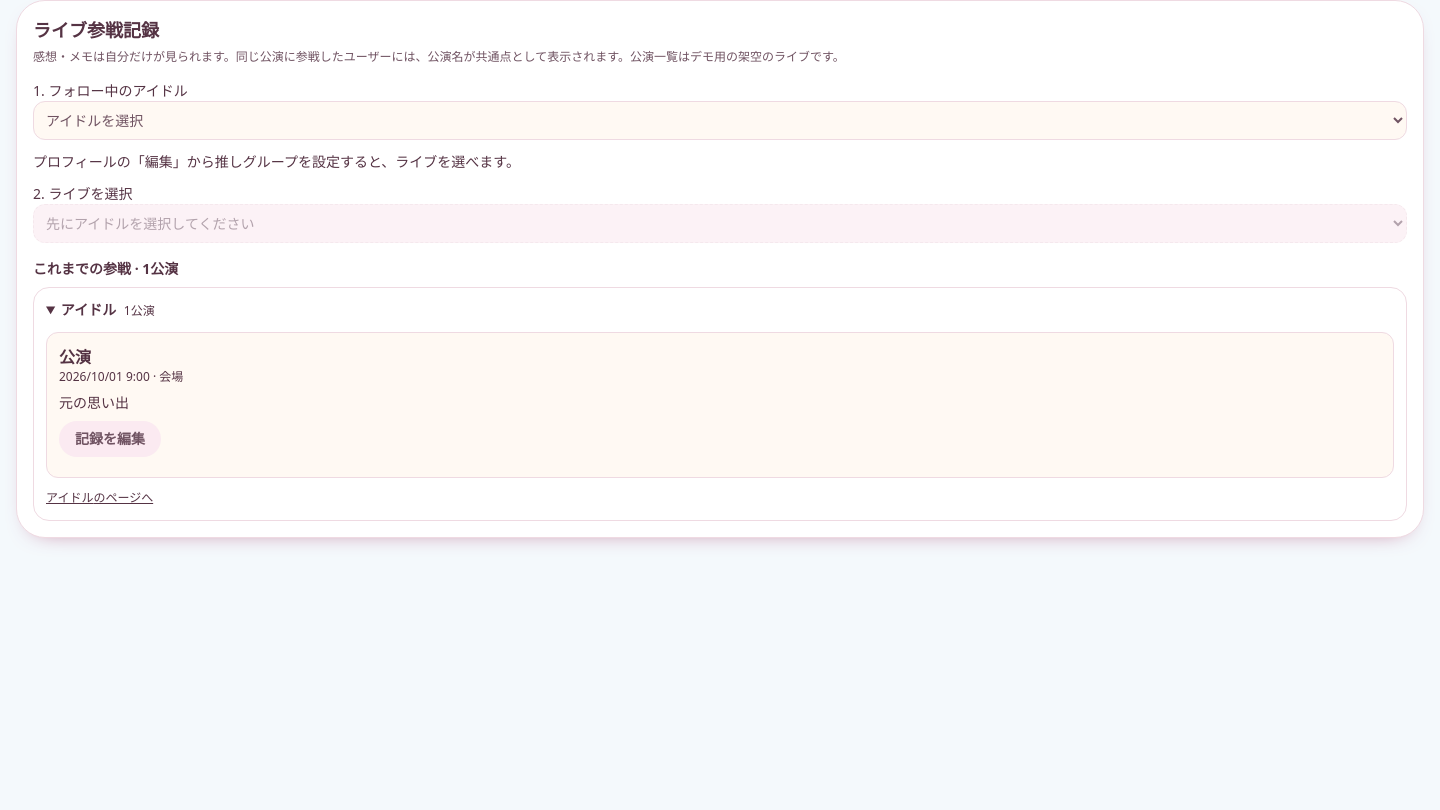
Scenario: 編集フォームは対象のカード内に開き、キャンセルで元のメモに戻る
Click the button "記録を編集" at (110,439), box [59,421,161,457]
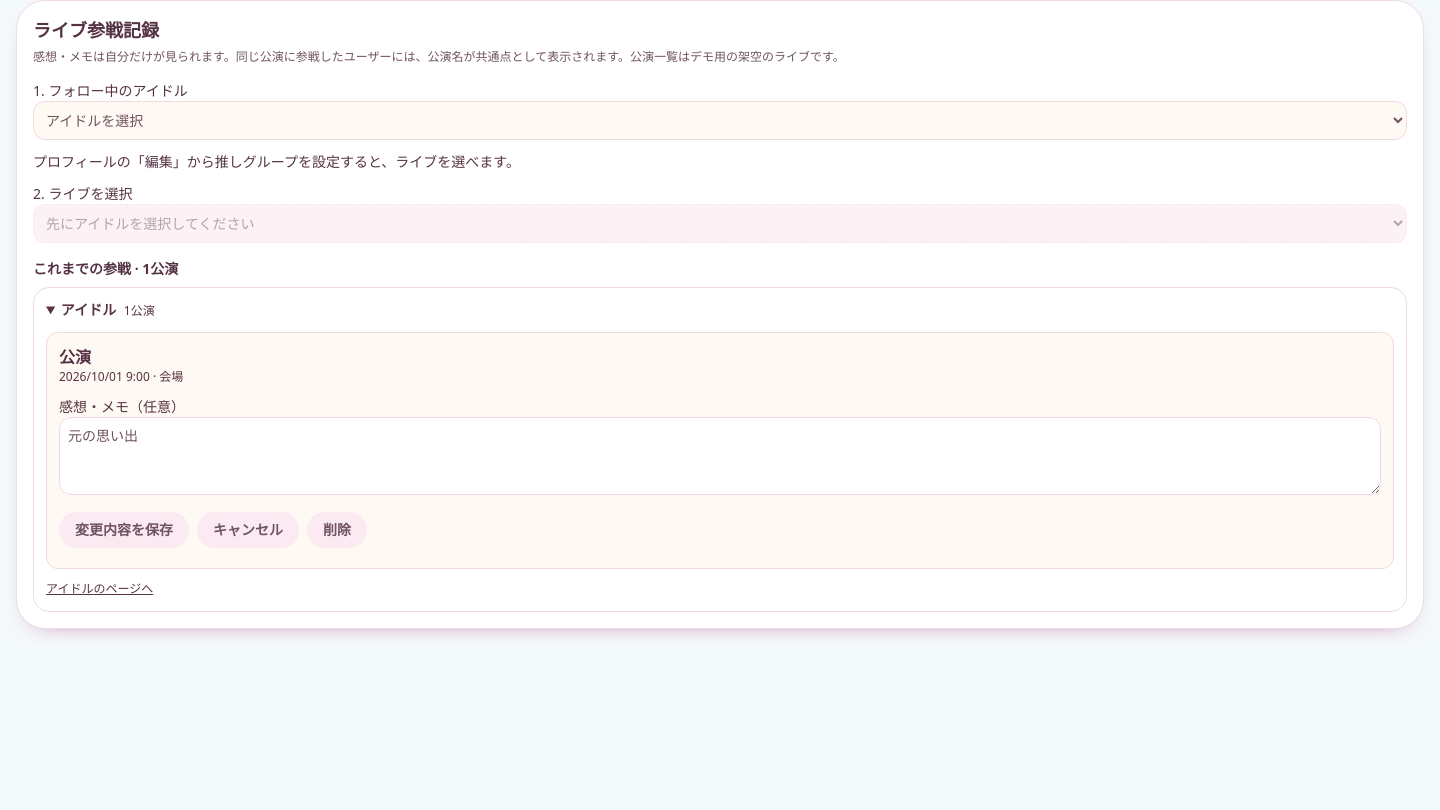
Expected: the button "変更内容を保存" is shown, [59,512,189,548]
Expected: the button "削除" is shown, [307,512,367,548]
Replace the text in the text box with "変更中のメモ" at (720,456), box [59,417,1381,495]
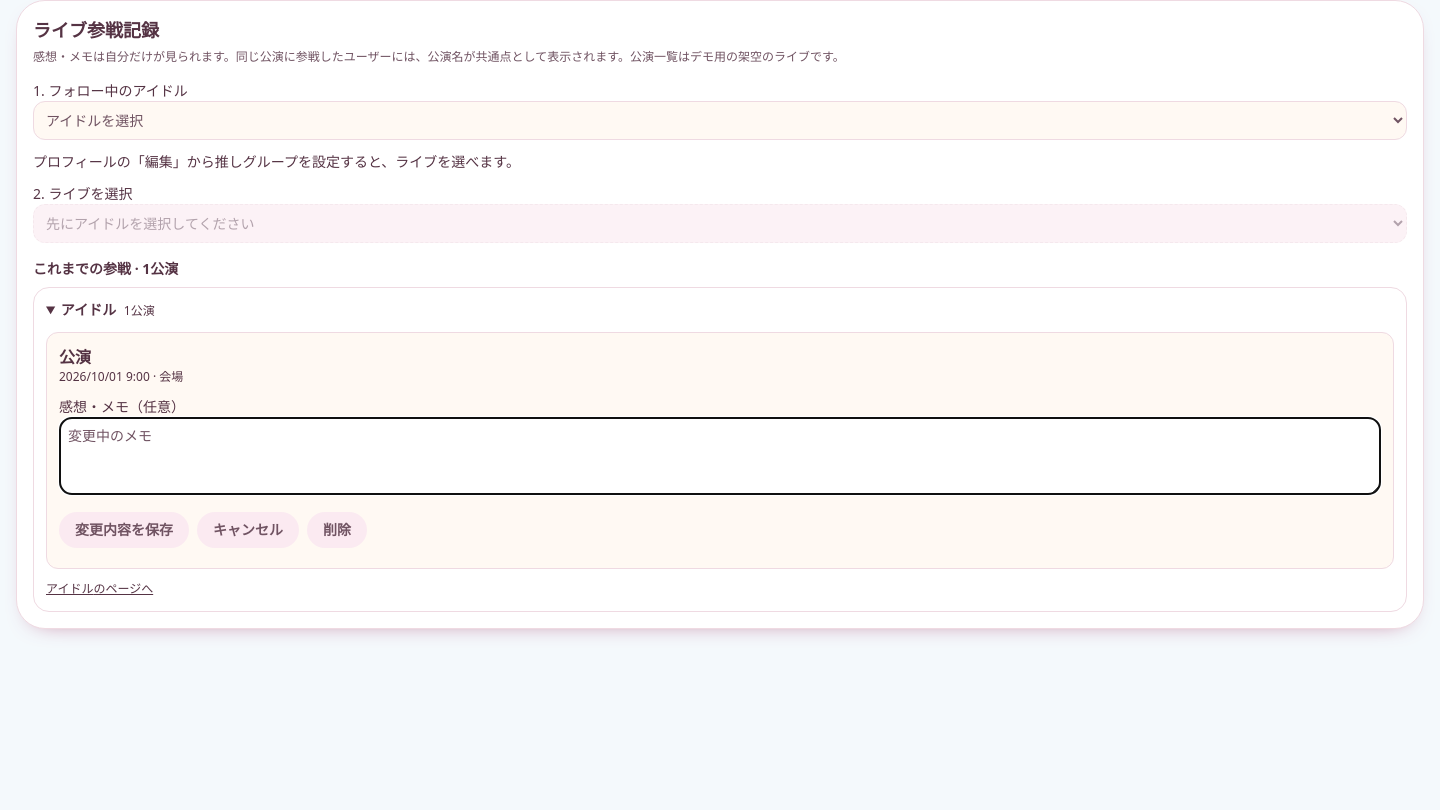
Click the button "キャンセル" at (248,530), box [197,512,299,548]
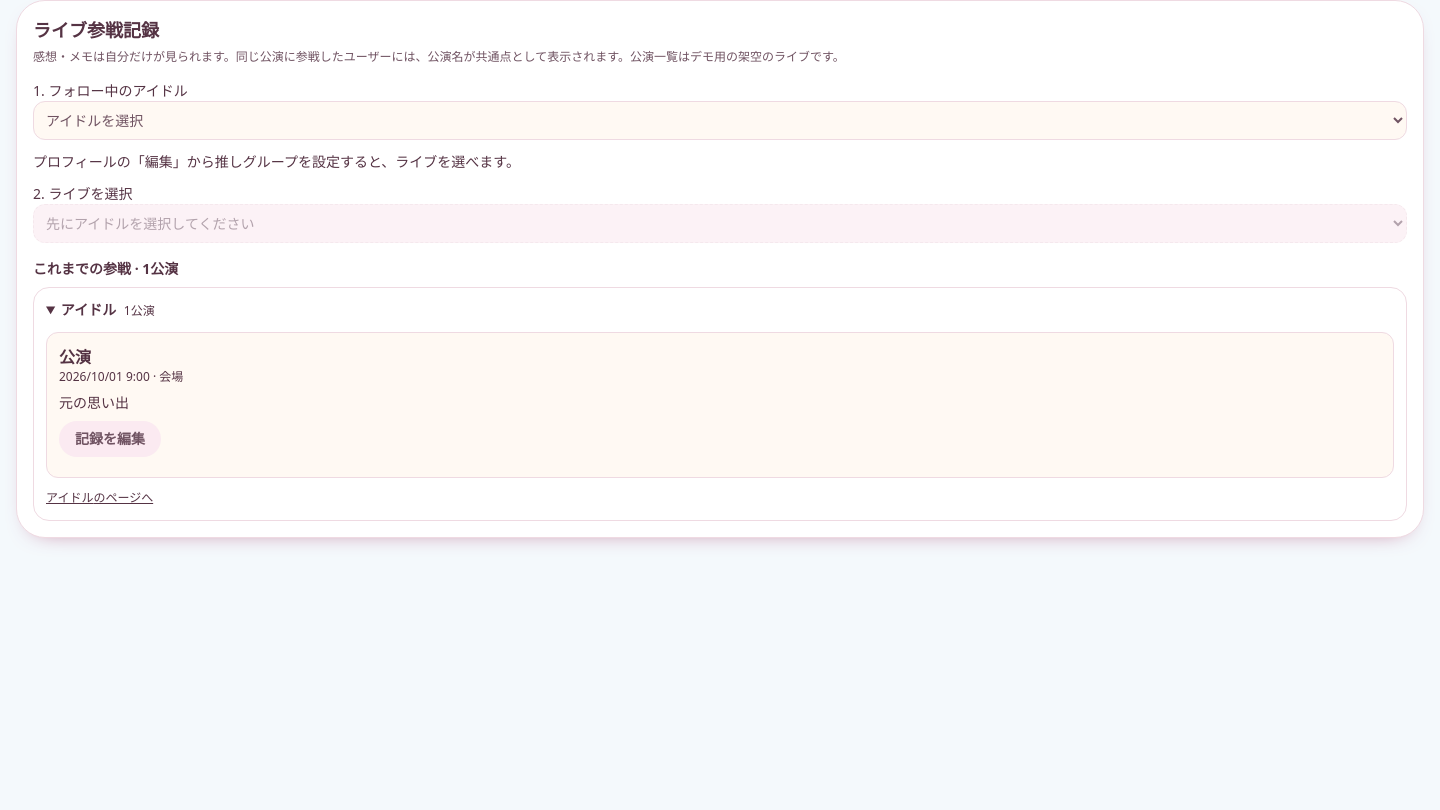
Expected: the text "元の思い出" is shown, [59,393,129,412]
Click the button "記録を編集" at (110,439), box [59,421,161,457]
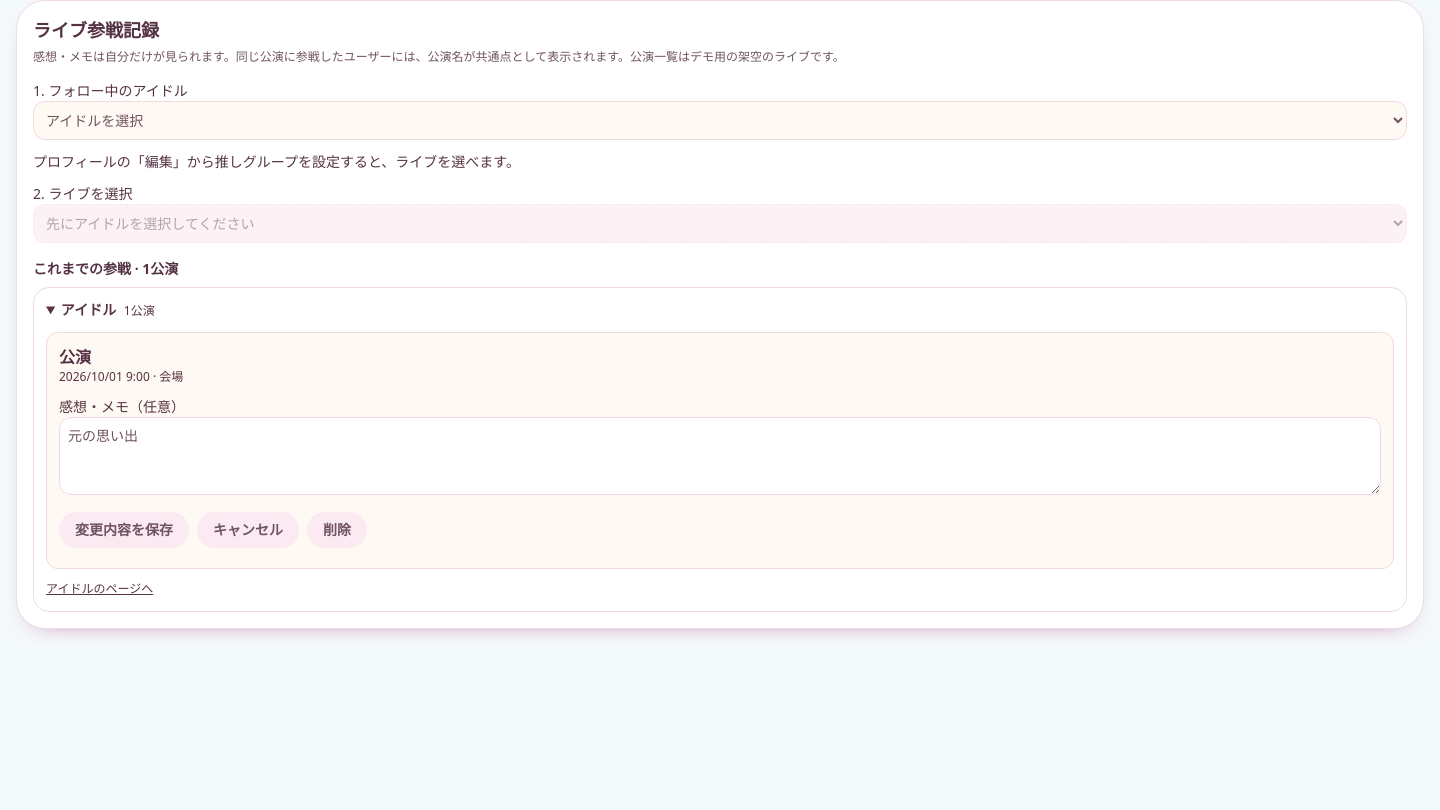
Expected: the text box holds "元の思い出", [59,417,1381,495]
